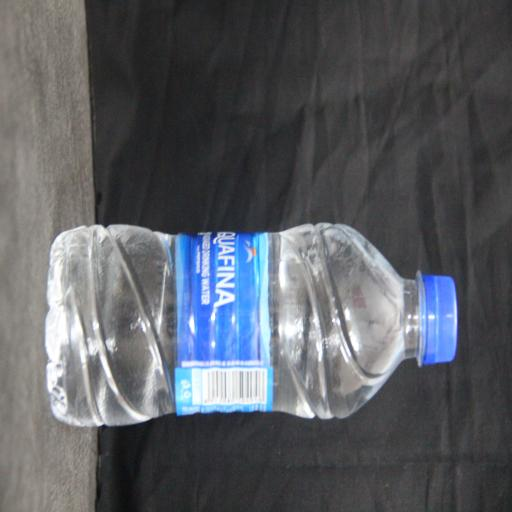Aquafina: (149, 82, 279, 512)
